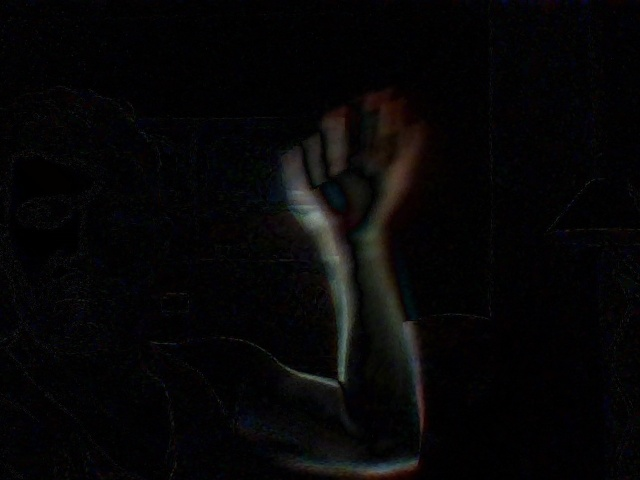arm_fo: (267, 85, 448, 476)
